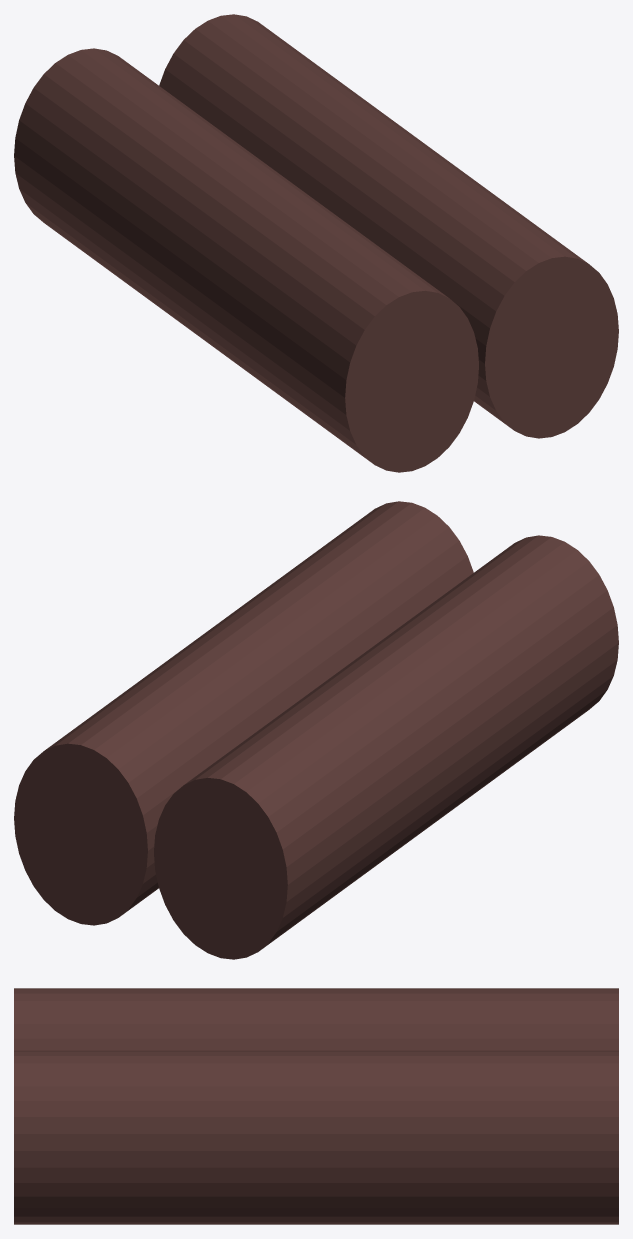
Rendered from machine-gun.gltf.
3 renders of one model, top to bottom at view 1: azimuth 30°, elevation 25°; view 2: azimuth 150°, elevation 25°; view 3: azimuth 270°, elevation 25°, orthographic. The views are drawn at different scales.
Parts seen in each view (by area): view 1: Cylinder.001, Cylinder; view 2: Cylinder.001, Cylinder; view 3: Cylinder, Cylinder.001.
Boxes of the visible parts, box(x1,y1,x2,y2) form: Cylinder.001: box(14, 48, 478, 472); Cylinder: box(159, 14, 618, 438); Cylinder.001: box(154, 535, 618, 959); Cylinder: box(14, 501, 473, 925); Cylinder: box(14, 1050, 618, 1224); Cylinder.001: box(14, 988, 618, 1050).
Bounding box in the file's own units: 0.2495 × 0.1558 × 0.5225.
